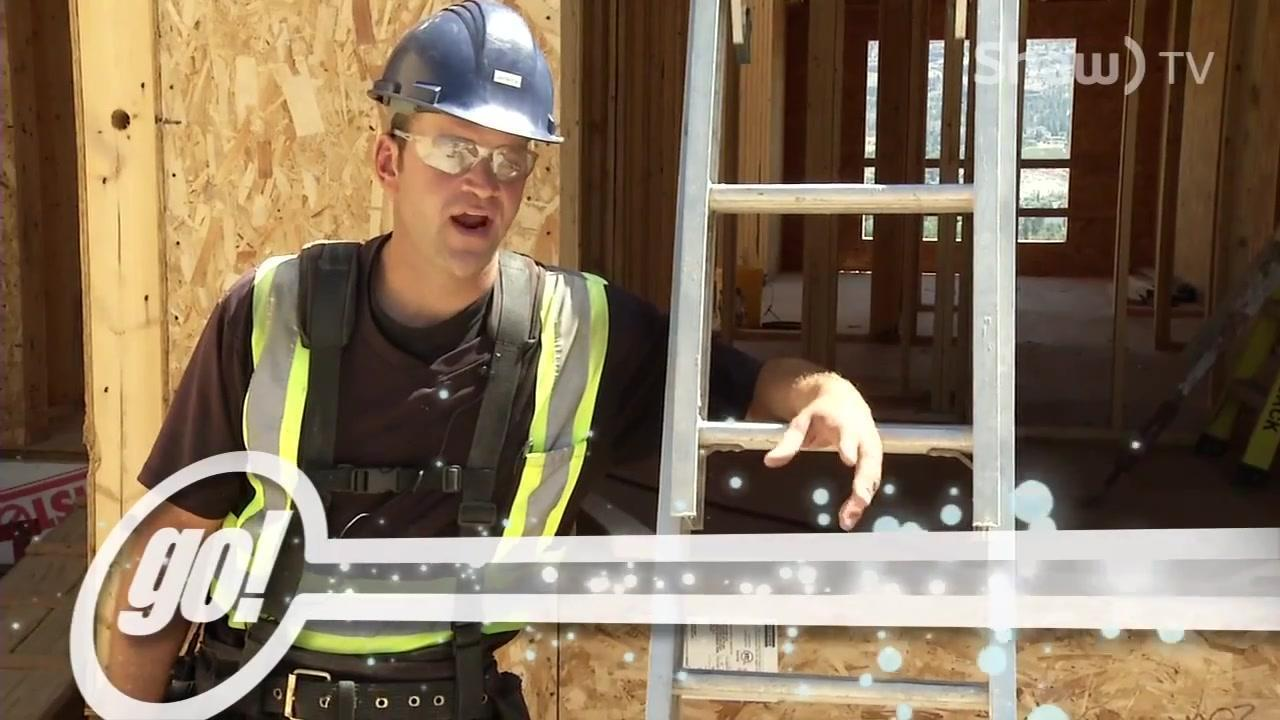vest: (206, 232, 617, 656)
